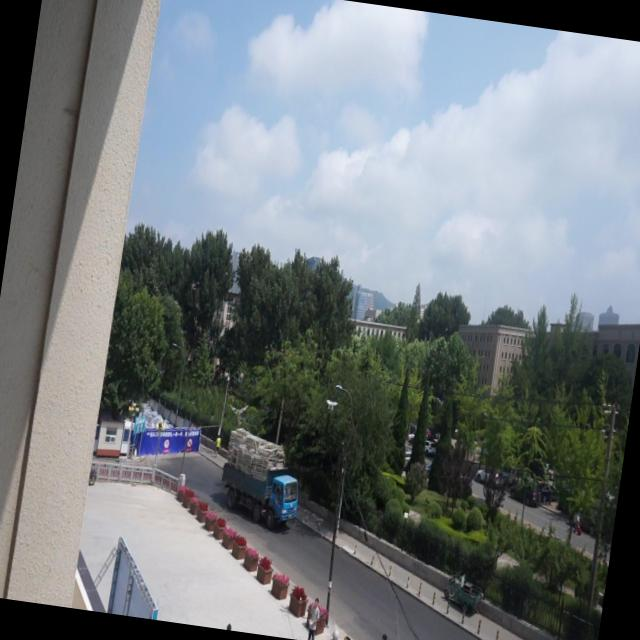drone: (322, 396, 340, 415)
